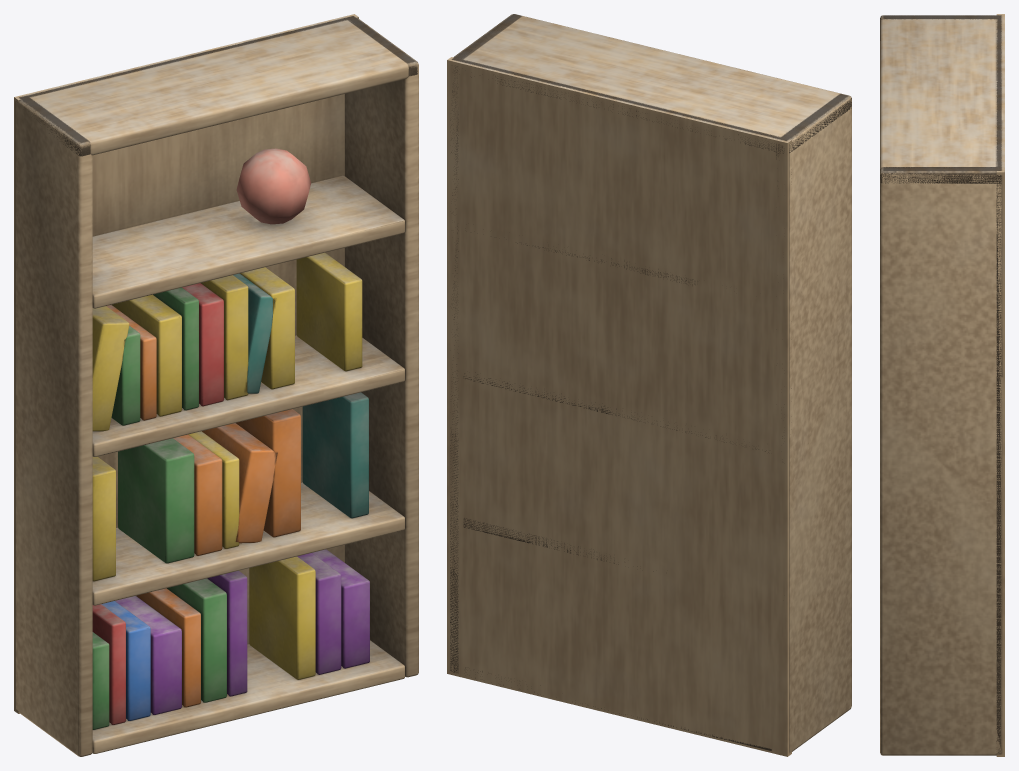
Rendered from bookshelf.fbx.
The picture shows the model from 3 angles, left to right: view 1: azimuth 30°, elevation 25°; view 2: azimuth 150°, elevation 25°; view 3: azimuth 270°, elevation 25°; orthographic projection. The views are drawn at different scales.
Parts seen in each view (by area): view 1: Body; view 2: Body; view 3: Body.
Part boxes in pixels (x1,y1,x2,y2): Body: (14,14,418,756); Body: (447,14,851,756); Body: (880,14,1004,756).
Size of the model in its own units: 3.6 by 6.2 by 1.2.
Materials: 1 (1 with a texture image).
